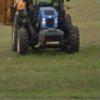Tractor: (8, 0, 90, 60)
